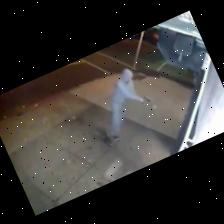person: (106, 69, 150, 141)
